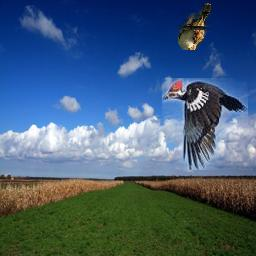Cuckoo: (179, 4, 212, 51)
Woodpecker: (162, 78, 248, 170)
